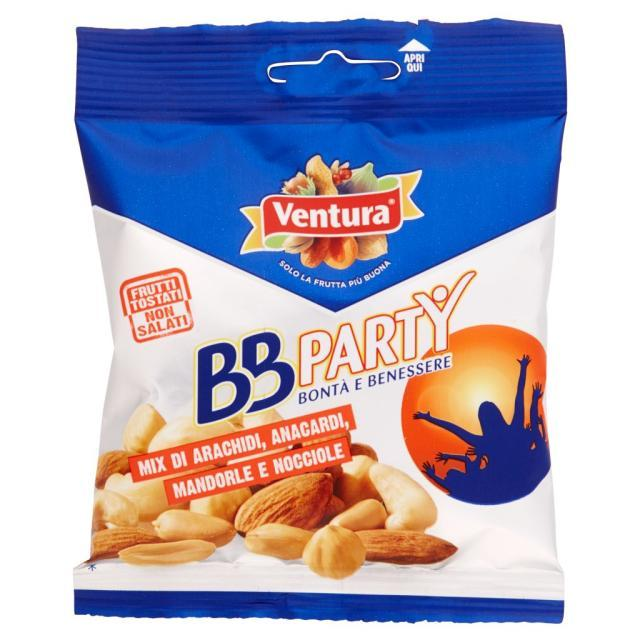Frutta secca: (240, 486, 458, 574)
